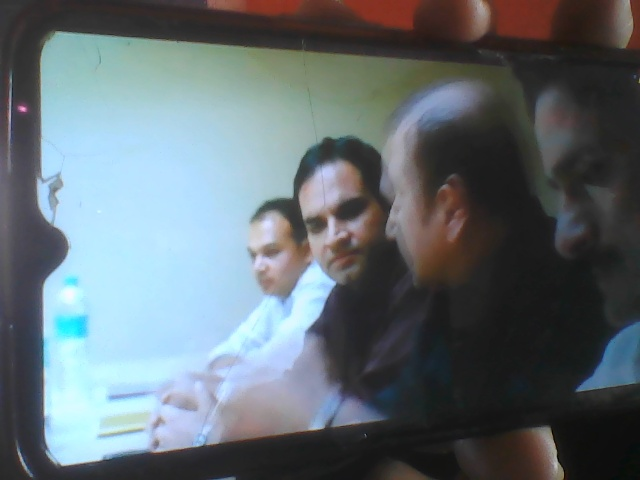fake: (300, 112, 439, 309)
